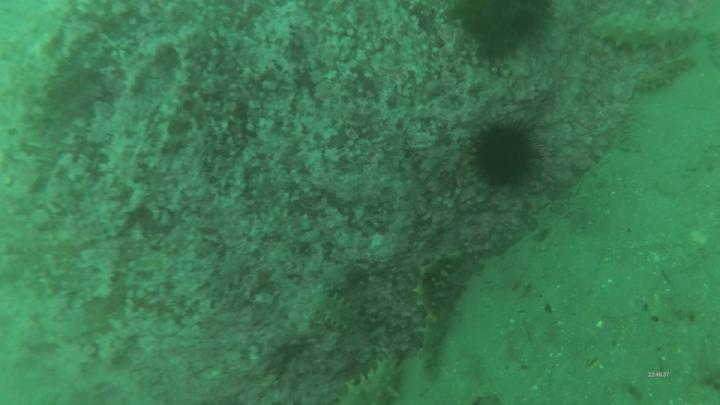echinus: (459, 117, 546, 201), (449, 1, 557, 60)
holothurian: (416, 259, 460, 386), (307, 285, 378, 358), (587, 11, 703, 54), (329, 353, 400, 405), (634, 56, 699, 94)
